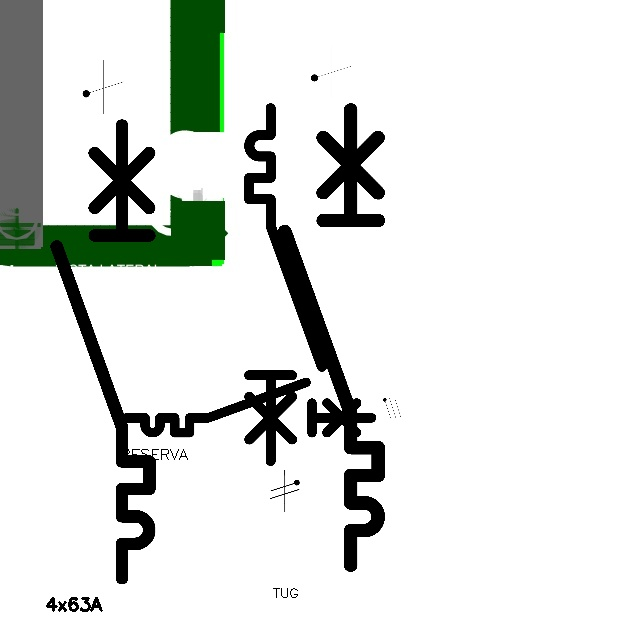interruptor_termomagnetico: (273, 98, 390, 577), (45, 113, 161, 589), (240, 99, 331, 470), (120, 376, 378, 439)
